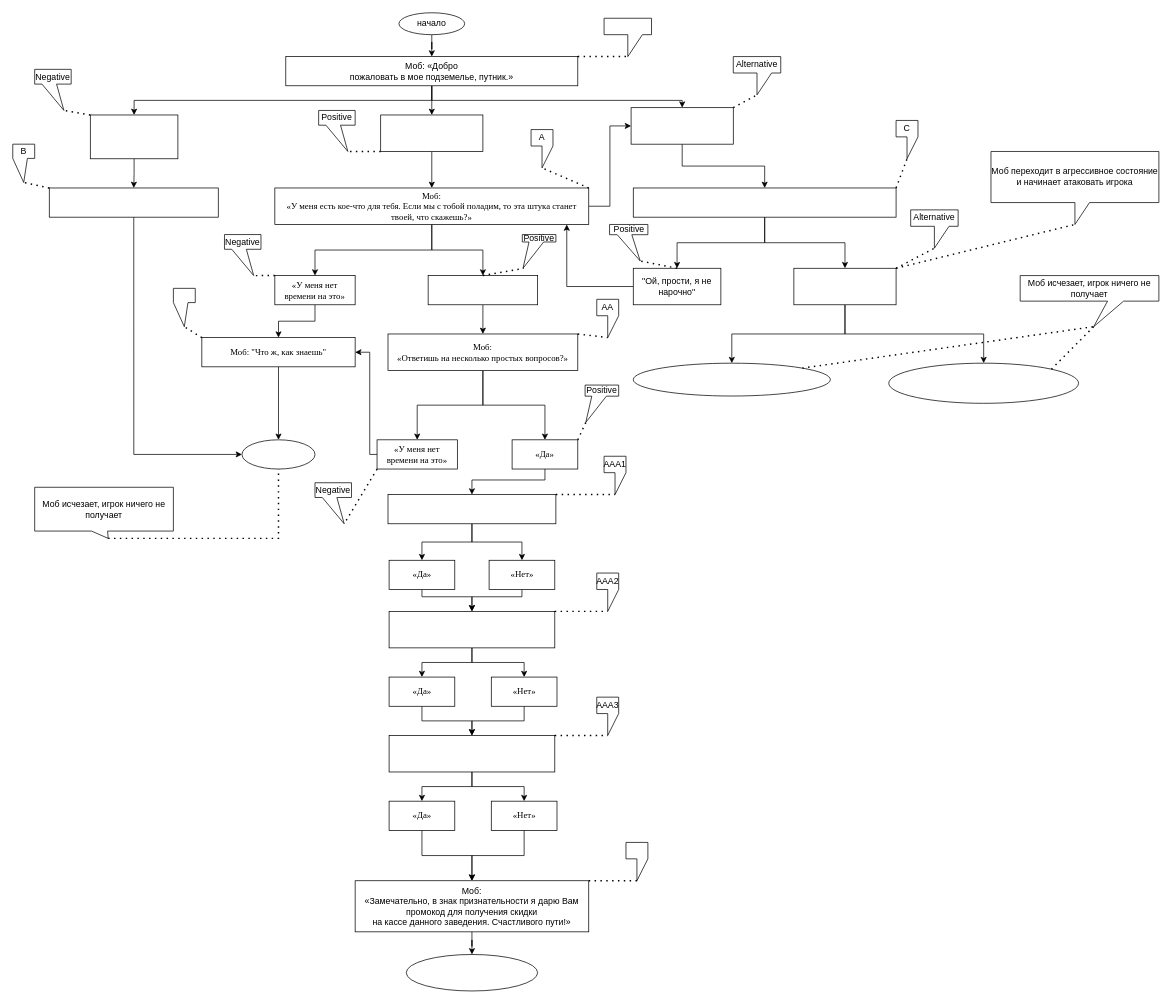
Some shapes in this 1172 by 1004 pixel diagram are drawn without their labels. The box of each missing label's shape, as (x1, y1, x2, y2) in pixels:
"Привет": (380, 114, 483, 151)
"Прочь с дороги": (90, 114, 178, 159)
AAA: (625, 842, 648, 881)
AB: (173, 288, 195, 327)
start: (603, 18, 652, 57)
«Окей, что ты предлагаешь?»: (427, 275, 538, 305)
конец: (241, 439, 315, 469)
конец: Вы вероломно уничтожили дружелюбное виртуальное существо: (888, 362, 1079, 403)
конец: выдача промокода: (406, 954, 538, 991)
конец: моб дал Вам сдачи и покинул виртуальное пространство: (633, 362, 830, 396)
Моб: "Ну и черт с тобой": (49, 187, 218, 217)
Моб: «Ай, больно же! Разве так отвечают на приветствие?»: (633, 187, 896, 217)
Моб: «Вам понравилось сие заведение?»: (387, 494, 556, 524)
Моб: «Вероятно ли, что Вы еще вернетесь в это заведение?»: (388, 611, 555, 648)
Моб: «Посоветуете наше заведение своим знакомым?»: (388, 735, 555, 772)
Ударить по мобу: (630, 107, 733, 144)
Ударить по мобу (спровоцировать на драку): (793, 268, 896, 305)
